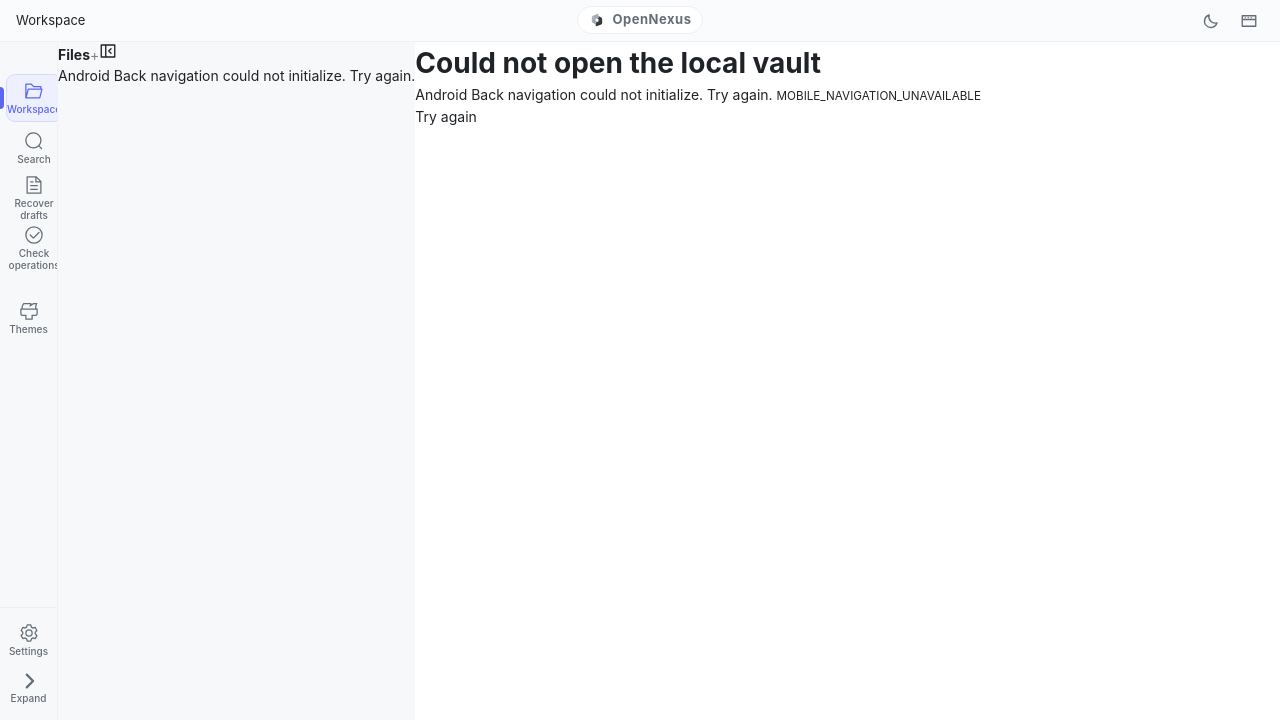
Test: shows a retryable startup failure if the promised Android Back listener cannot register
Expected: the element with class "startup-card" is shown, [415,46,981,124]
Step 1. Click the button "Try again" → (446, 116), box [415,108,477,124]
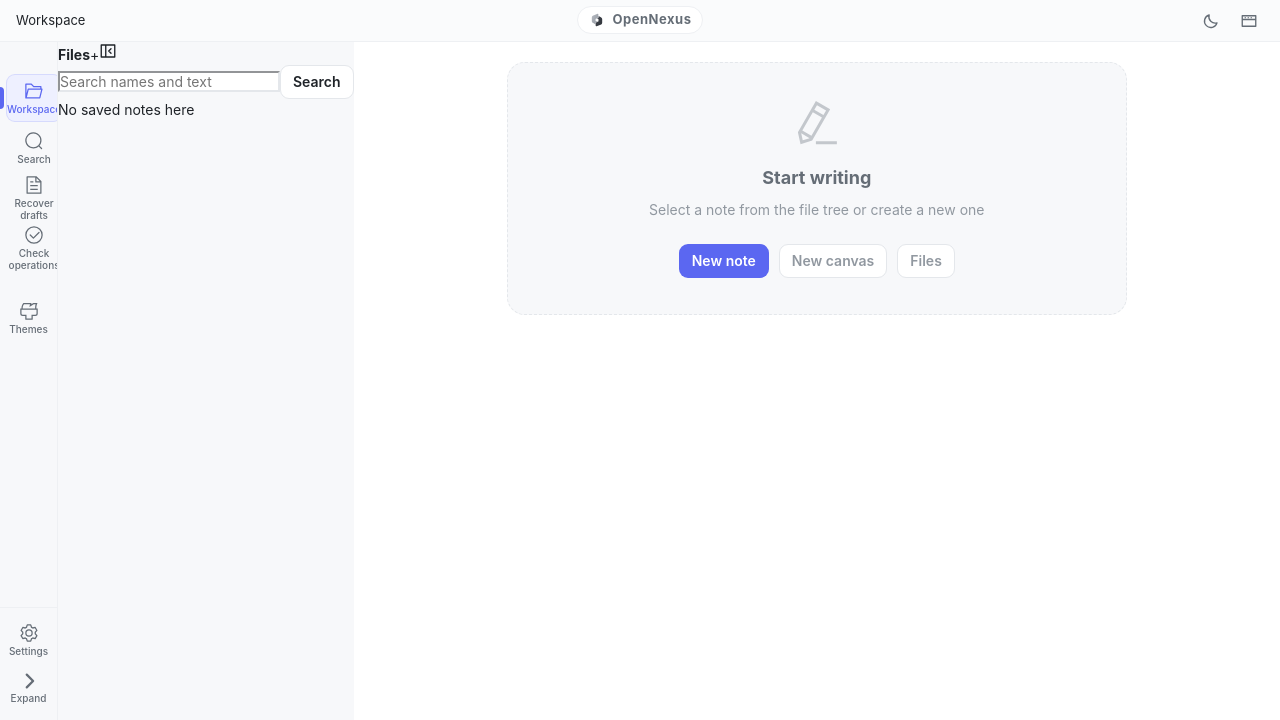
Now the element with class "empty-workspace" is shown, box [507,62,1127,315]
